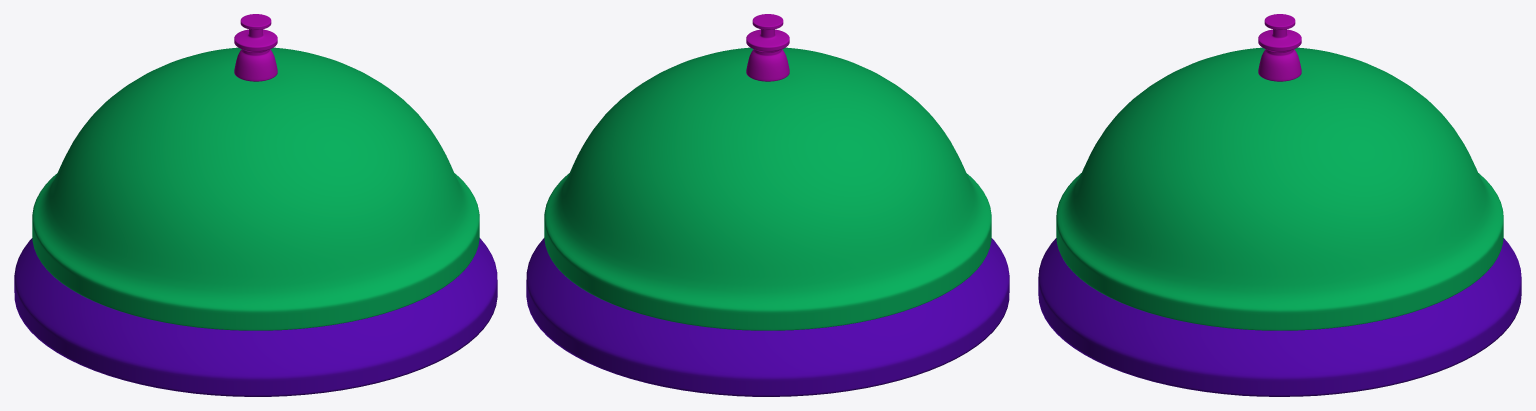
File: uploads_files_1029218_Desk_bell.fbx
The picture shows the model from 3 angles, left to right: view 1: azimuth 30°, elevation 25°; view 2: azimuth 150°, elevation 25°; view 3: azimuth 270°, elevation 25°; orthographic projection.
Visible parts, largest first — view 1: Mid_piece, Bottom_piece, Top_piece; view 2: Mid_piece, Bottom_piece, Top_piece; view 3: Mid_piece, Bottom_piece, Top_piece.
Boxes of the visible parts, x1=… form: Mid_piece: x1=32, y1=47, x2=479, y2=330; Bottom_piece: x1=14, y1=238, x2=497, y2=396; Top_piece: x1=234, y1=14, x2=277, y2=81; Mid_piece: x1=544, y1=47, x2=991, y2=330; Bottom_piece: x1=526, y1=238, x2=1009, y2=396; Top_piece: x1=746, y1=14, x2=789, y2=81; Mid_piece: x1=1056, y1=47, x2=1503, y2=330; Bottom_piece: x1=1038, y1=238, x2=1521, y2=396; Top_piece: x1=1258, y1=14, x2=1301, y2=81.
Size of the model in its own units: 1.22 by 0.7743 by 1.22.
